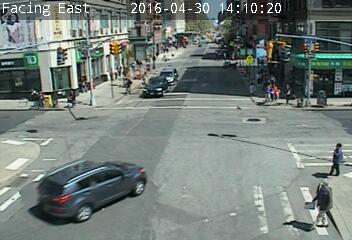neg: (307, 85, 332, 118), (57, 86, 80, 117), (22, 177, 43, 205), (331, 76, 351, 103), (73, 173, 93, 200), (325, 58, 339, 77), (51, 210, 63, 227)
pos: (297, 171, 345, 235), (322, 137, 351, 178), (279, 83, 296, 105)
